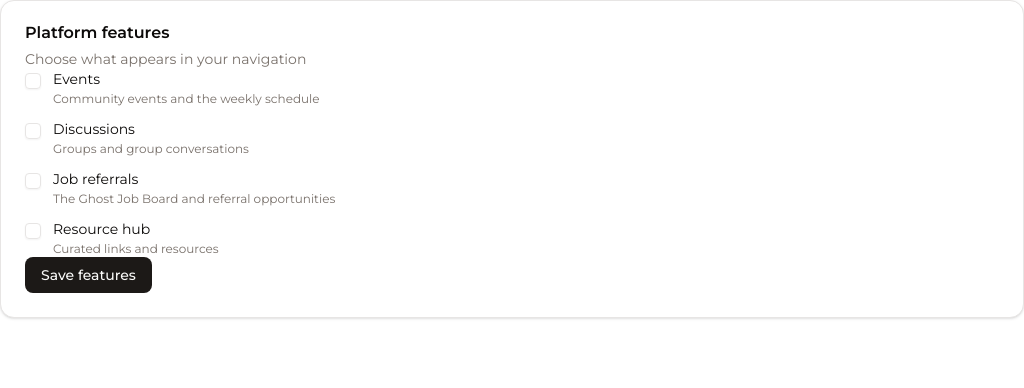
Scenario: FeaturePreferencesForm — editing feature preferences after onboarding › should show the server's message when the save is rejected
Click the button "Save features": (88, 275) [25,257,152,293]
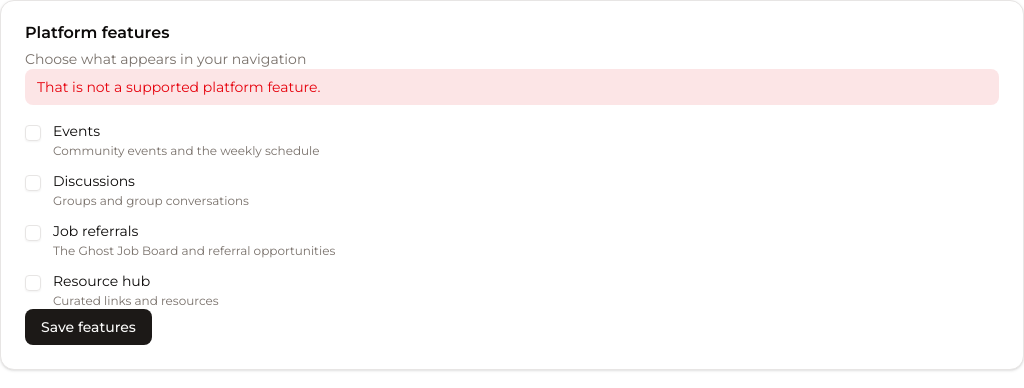
Now the text "That is not a supported platform feature." is shown, box [25,69,999,105]
